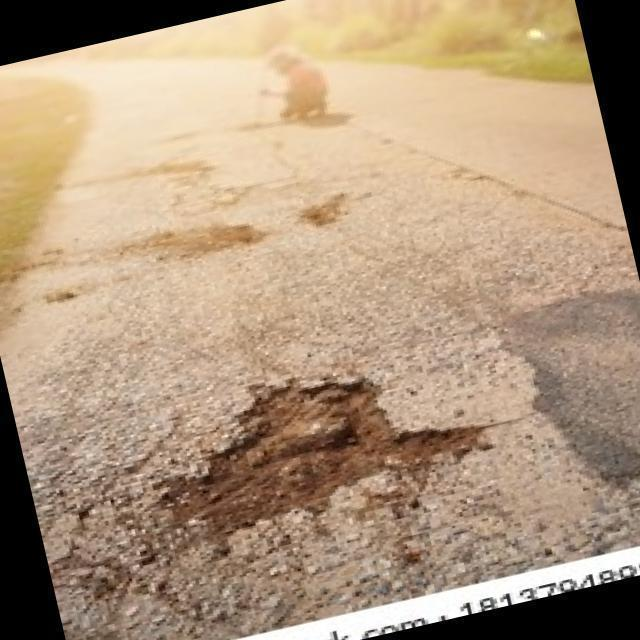Pothole: (152, 373, 487, 538)
